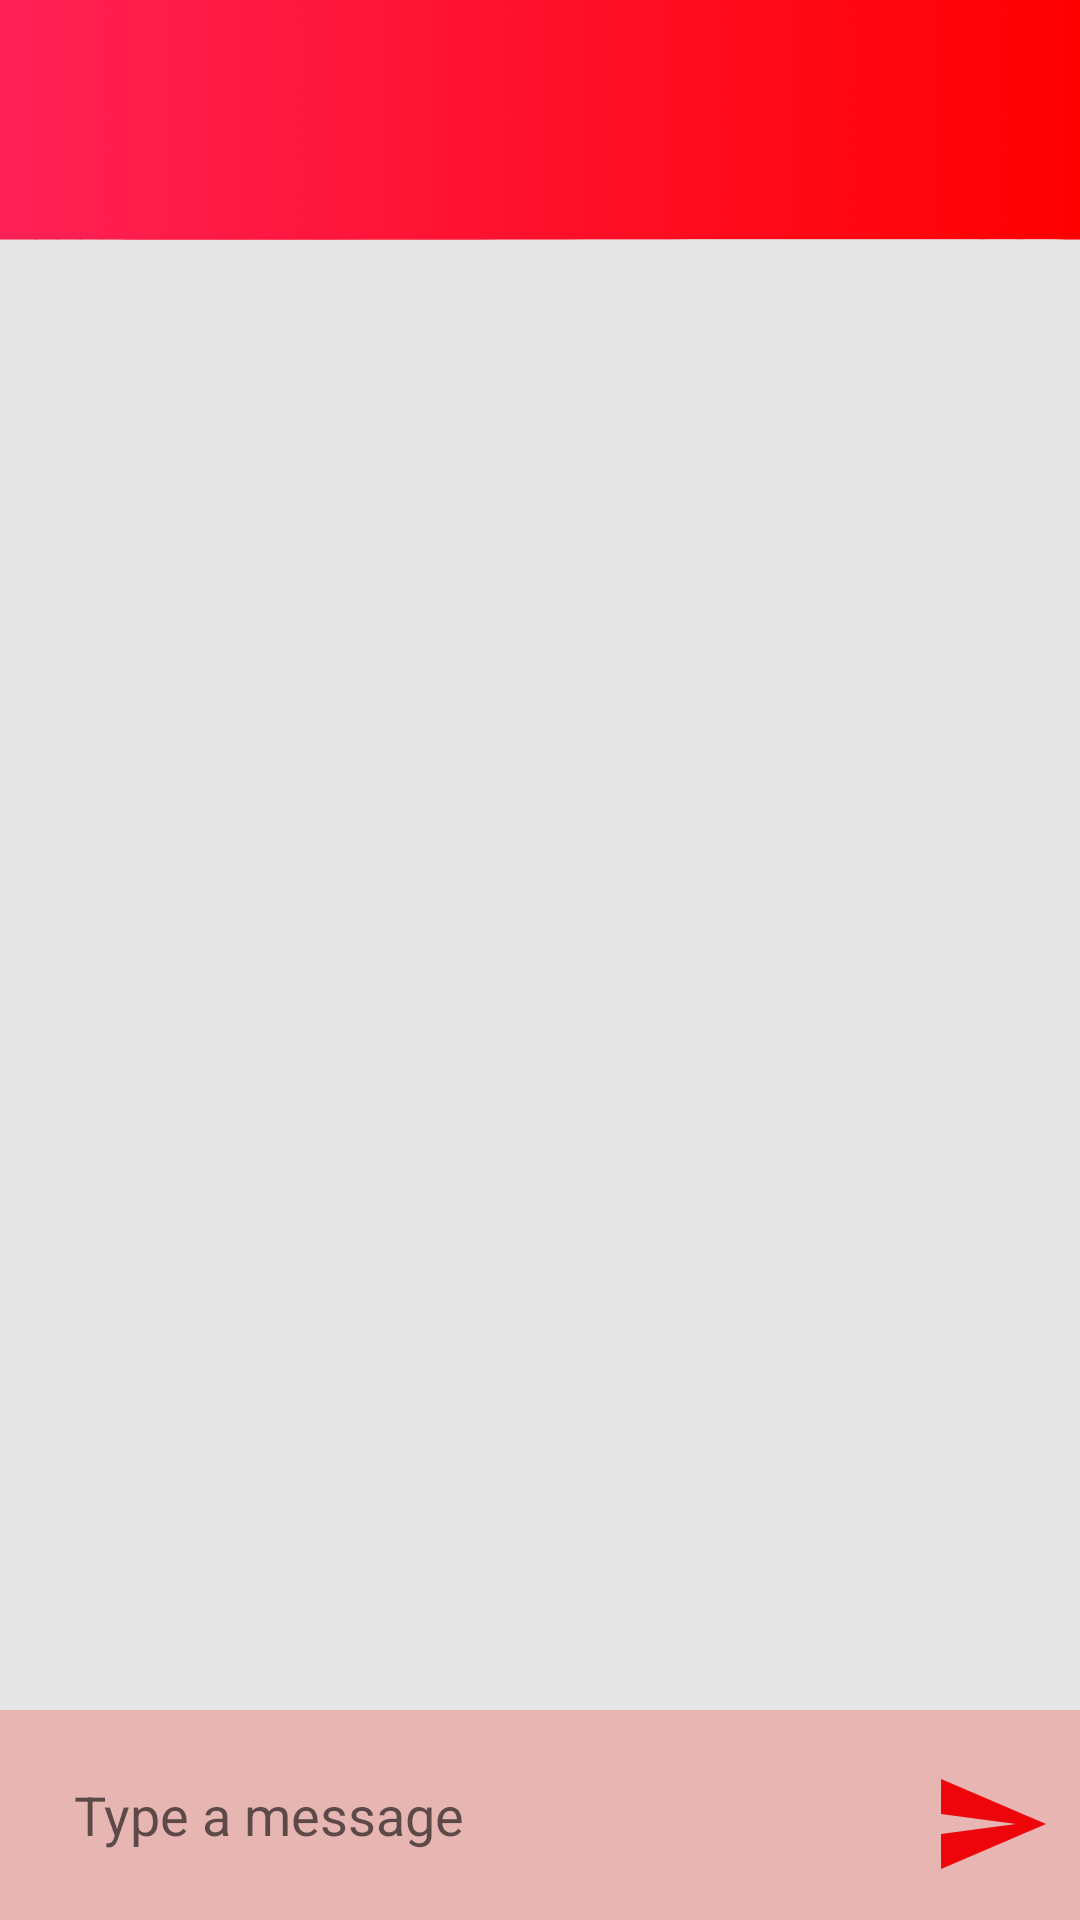

Screen size 1080x1920. Icon name, then its box in pixels as (x1=x1, y1=y1, x2=x2, y2=y2):
send: (x1=941, y1=1779, x2=1046, y2=1869)
